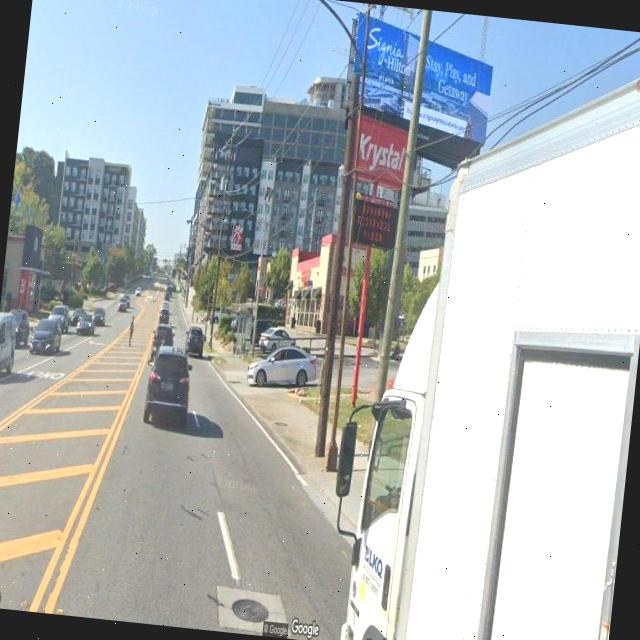shelter: (232, 308, 254, 361)
trash_can: (231, 336, 238, 354)
